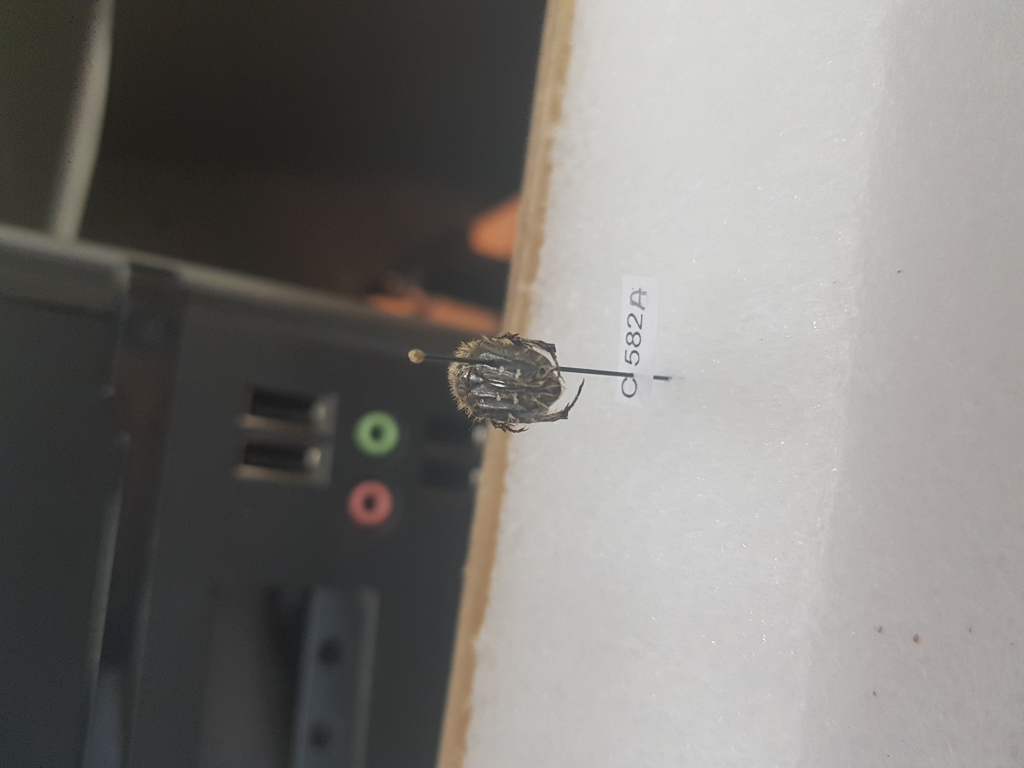Tropinota_hirta: (442, 327, 592, 438)
